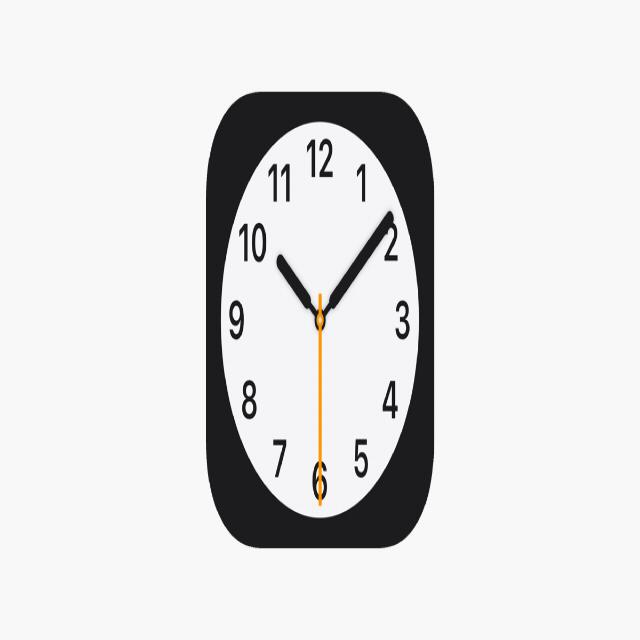clock: (164, 84, 470, 574)
